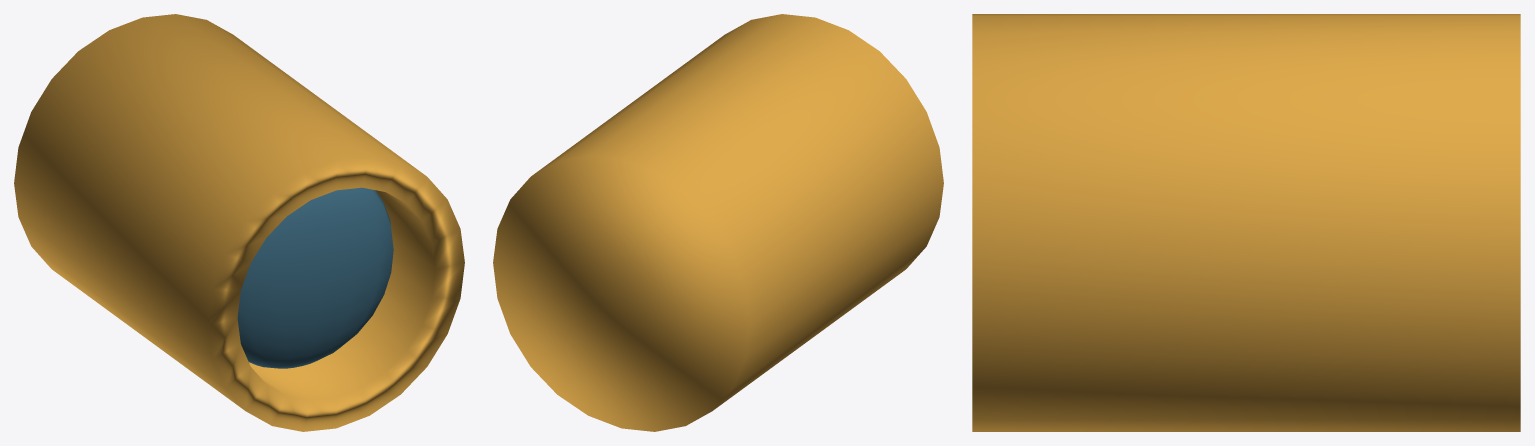
Rendered from voyager_scan_platform.boom.azimuth.elevation.uvs.glb.
3 renders of one model, left to right at view 1: azimuth 30°, elevation 25°; view 2: azimuth 150°, elevation 25°; view 3: azimuth 270°, elevation 25°, orthographic. The views are drawn at different scales.
Visible parts, largest first — view 1: voyager_scan_platform.boom.azimuth.elevation.uvs.mesh_Gold_t, voyager_scan_platform.boom.azimuth.elevation.uvs.lens.mesh_C; view 2: voyager_scan_platform.boom.azimuth.elevation.uvs.mesh_Gold_t; view 3: voyager_scan_platform.boom.azimuth.elevation.uvs.mesh_Gold_t.
Boxes of the visible parts, left/top/right/bottom form: voyager_scan_platform.boom.azimuth.elevation.uvs.mesh_Gold_t: left=14, top=14, right=464, bottom=431; voyager_scan_platform.boom.azimuth.elevation.uvs.lens.mesh_C: left=237, top=187, right=393, bottom=368; voyager_scan_platform.boom.azimuth.elevation.uvs.mesh_Gold_t: left=493, top=14, right=943, bottom=431; voyager_scan_platform.boom.azimuth.elevation.uvs.mesh_Gold_t: left=972, top=14, right=1520, bottom=431.
Bounding box in the file's own units: 0.088 × 0.088 × 0.115.
